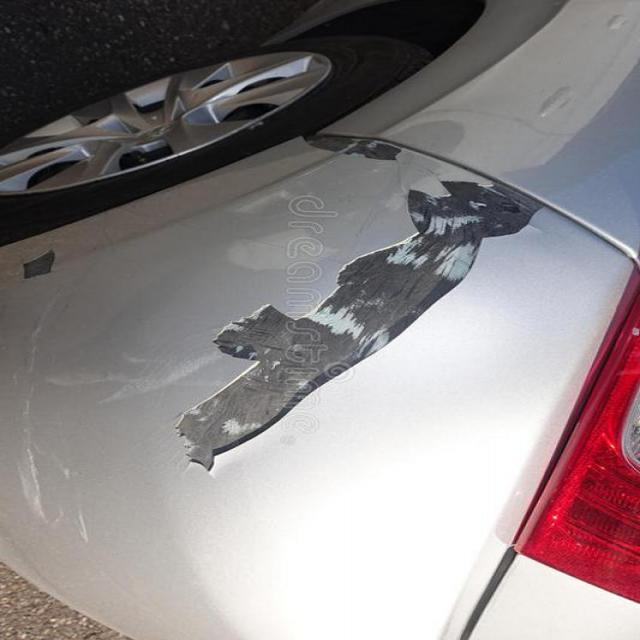scratch: (100, 107, 564, 491)
